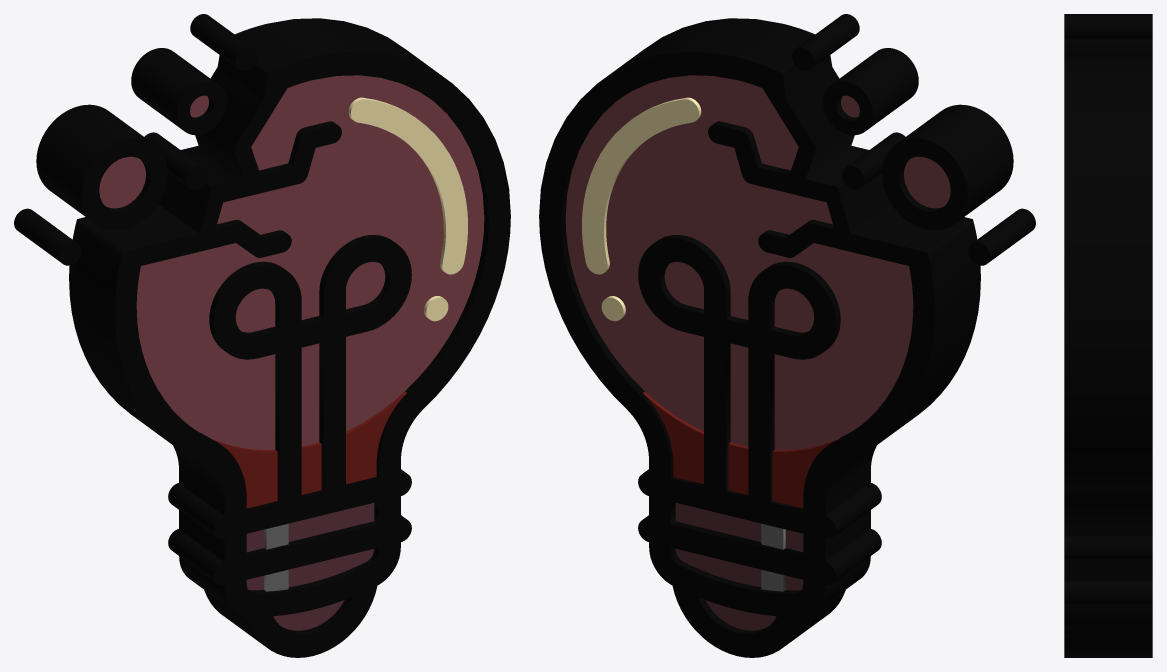
Rendered from IdeaOut.fbx.
3 renders of one model, left to right at view 1: azimuth 30°, elevation 25°; view 2: azimuth 150°, elevation 25°; view 3: azimuth 270°, elevation 25°, orthographic. The views are drawn at different scales.
Parts seen in each view (by area): view 1: Curve.061, Curve.043, Curve.062, Curve.056, Curve.052, Curve.058, Curve.053, Curve.065, Curve.057; view 2: Curve.061, Curve.043, Curve.062, Curve.056, Curve.052, Curve.058, Curve.053, Curve.065, Curve.057; view 3: Curve.061, Curve.058, Curve.062.
Part boxes in pixels (x1,y1,x2,y2): Curve.061: [69, 18, 510, 657]; Curve.043: [136, 75, 484, 449]; Curve.062: [36, 48, 226, 230]; Curve.056: [348, 97, 467, 321]; Curve.052: [210, 391, 406, 508]; Curve.058: [14, 14, 257, 265]; Curve.053: [246, 503, 374, 630]; Curve.065: [99, 95, 208, 208]; Curve.057: [264, 523, 288, 591]; Curve.061: [539, 18, 980, 657]; Curve.043: [565, 75, 913, 449]; Curve.062: [823, 48, 1013, 230]; Curve.056: [582, 97, 701, 321]; Curve.052: [643, 391, 839, 508]; Curve.058: [792, 14, 1035, 265]; Curve.053: [675, 503, 803, 630]; Curve.065: [841, 95, 950, 208]; Curve.057: [761, 523, 785, 591]; Curve.061: [1064, 56, 1152, 657]; Curve.058: [1064, 15, 1152, 39]; Curve.062: [1064, 14, 1152, 55].
Bounding box in the file's own units: 52.55 × 69.49 × 9.21.
